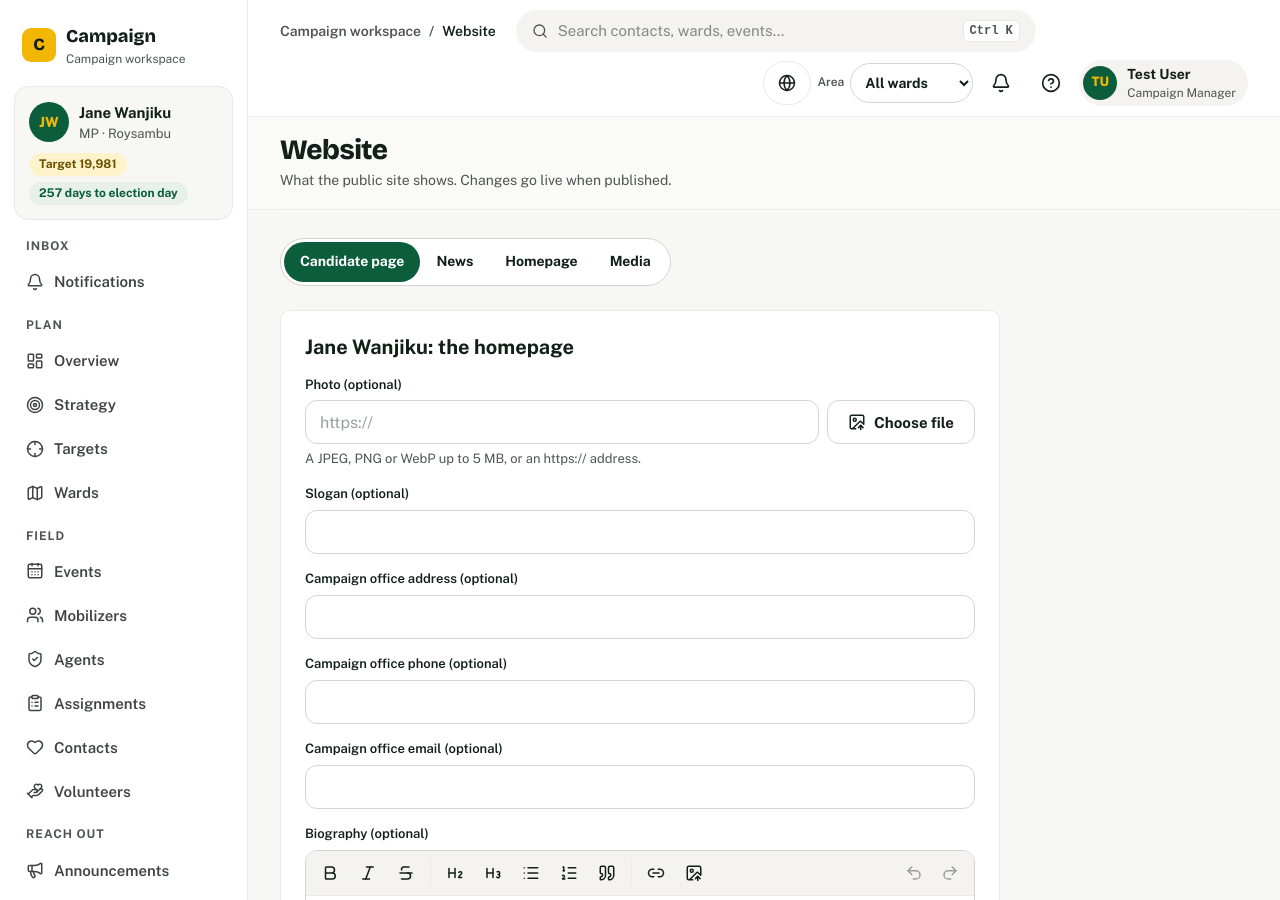
Test: the website editor › puts the page's content in the main landmark
The image size is (1280, 900).
Click the button "News" at (455, 262), box [420, 242, 489, 282]
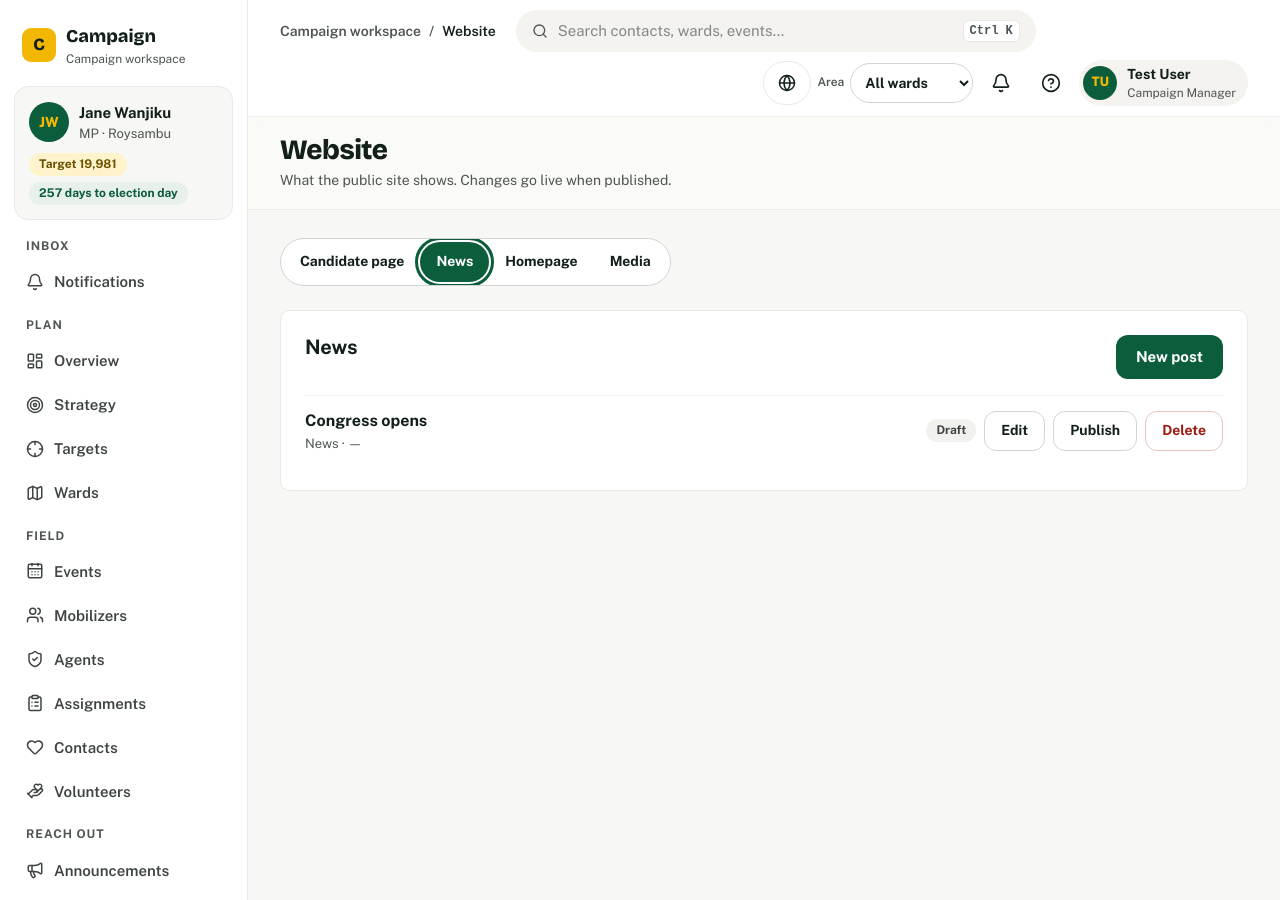
Result: the text "Congress opens" is shown at [305, 408, 427, 433]
